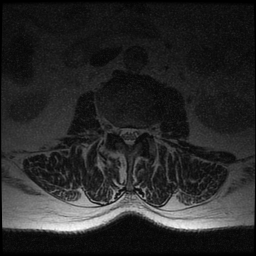CCS_normal: (126, 121, 133, 153)
LFS_stenosis: (140, 122, 148, 141)
LLS_normal: (133, 122, 140, 147)
RFS_normal: (112, 119, 120, 141)
RLS_normal: (120, 122, 125, 145)
